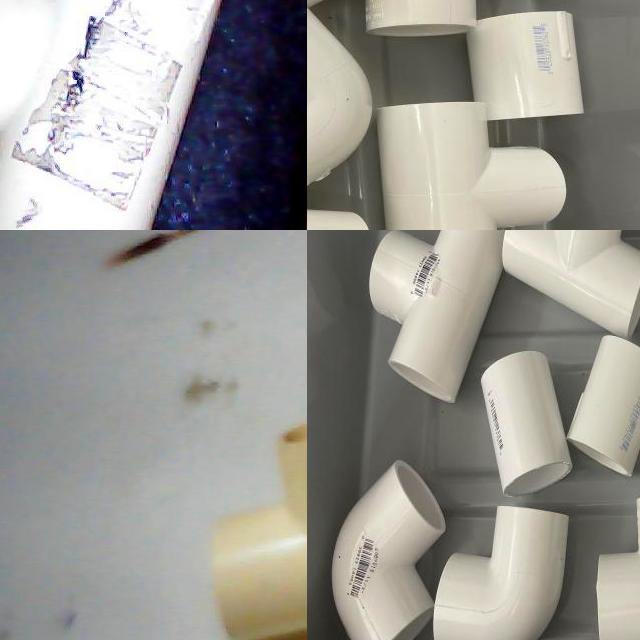Defective: (25, 0, 189, 226)
L Joint: (331, 460, 447, 640), (432, 506, 572, 640), (307, 11, 373, 191)
T Joint: (376, 98, 567, 230), (368, 230, 505, 405), (211, 422, 307, 640), (504, 230, 640, 340)
